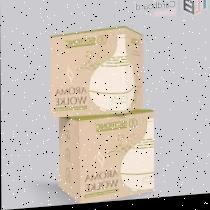cube: (57, 110, 153, 206), (49, 27, 147, 117)
